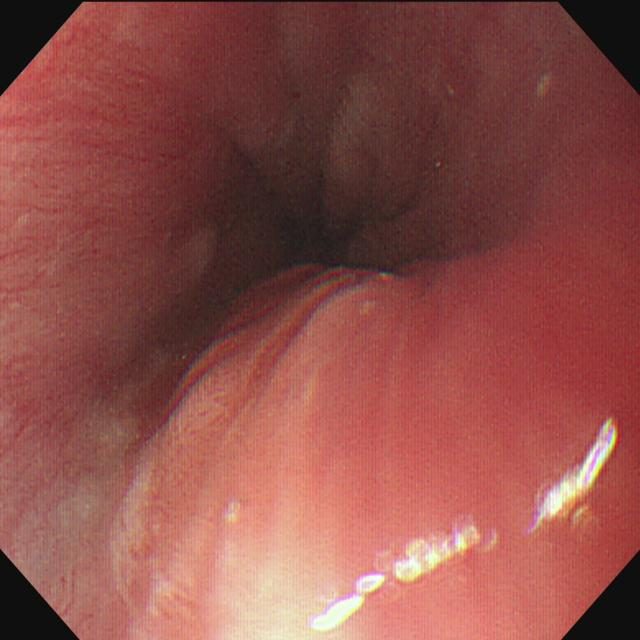E: (171, 123, 414, 346)
U: (526, 417, 622, 542), (395, 515, 501, 589), (309, 572, 392, 636)
